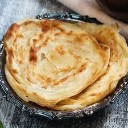parota: (6, 21, 123, 104)
